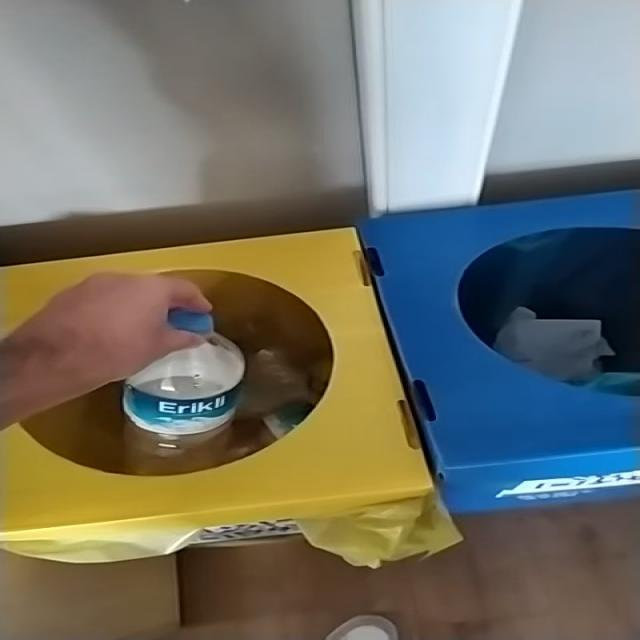plastic: (123, 309, 245, 476)
